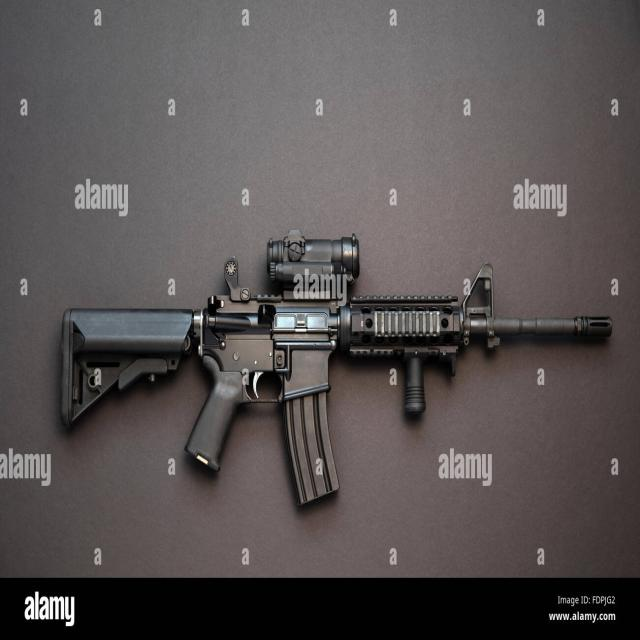Rifle: (61, 231, 612, 506)
